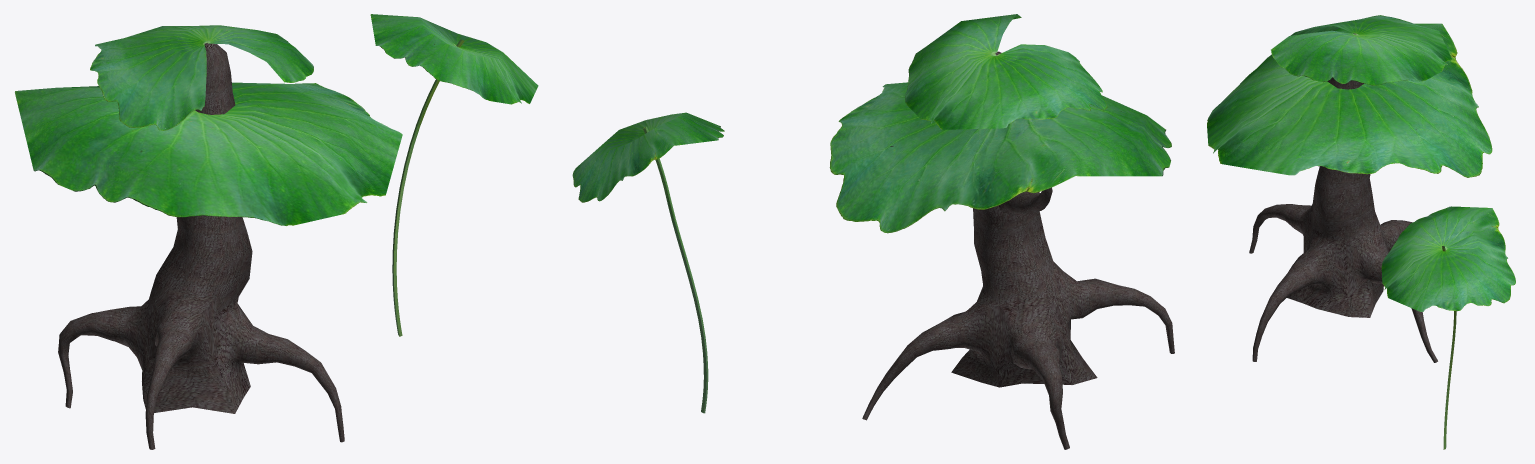
The model's file is frogtree.FBX.
The picture shows the model from 3 angles, left to right: view 1: azimuth 30°, elevation 25°; view 2: azimuth 150°, elevation 25°; view 3: azimuth 270°, elevation 25°; orthographic projection. The views are drawn at different scales.
Parts seen in each view (by area): view 1: Object020, nedan, Object022; view 2: Object020, nedan, Object022; view 3: Object020, nedan, Object022.
Part boxes in pixels (<box>): Object020: <box>15,25,402,225</box>; nedan: <box>58,43,344,449</box>; Object022: <box>370,14,538,336</box>; Object020: <box>829,14,1171,233</box>; nedan: <box>862,51,1174,449</box>; Object022: <box>572,112,724,413</box>; Object020: <box>1207,15,1492,177</box>; nedan: <box>1249,33,1437,362</box>; Object022: <box>1381,206,1515,449</box>.
Size of the model in its own units: 1373 by 965 by 848.
